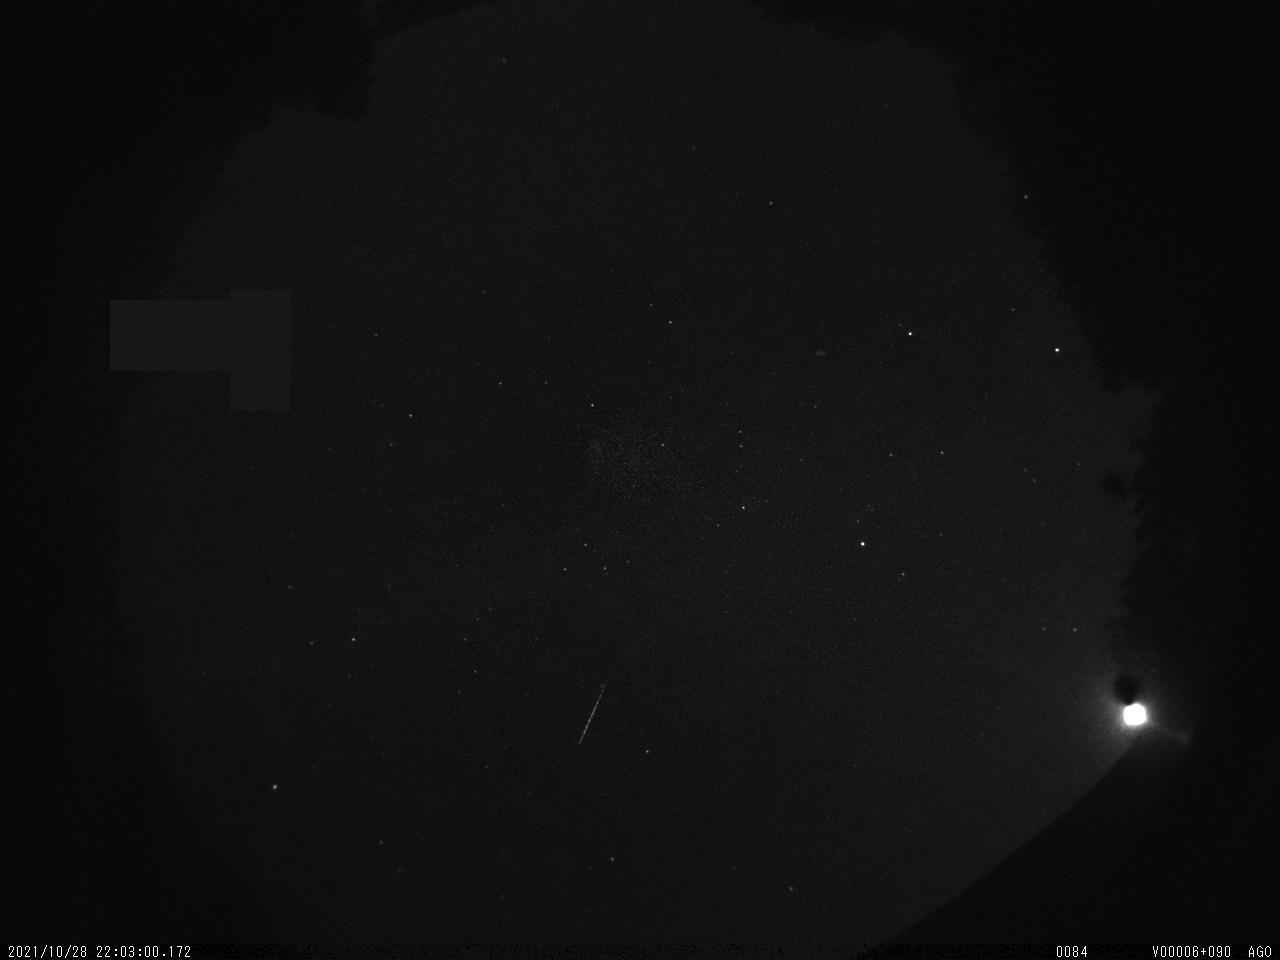meteor: (564, 670, 626, 756)
